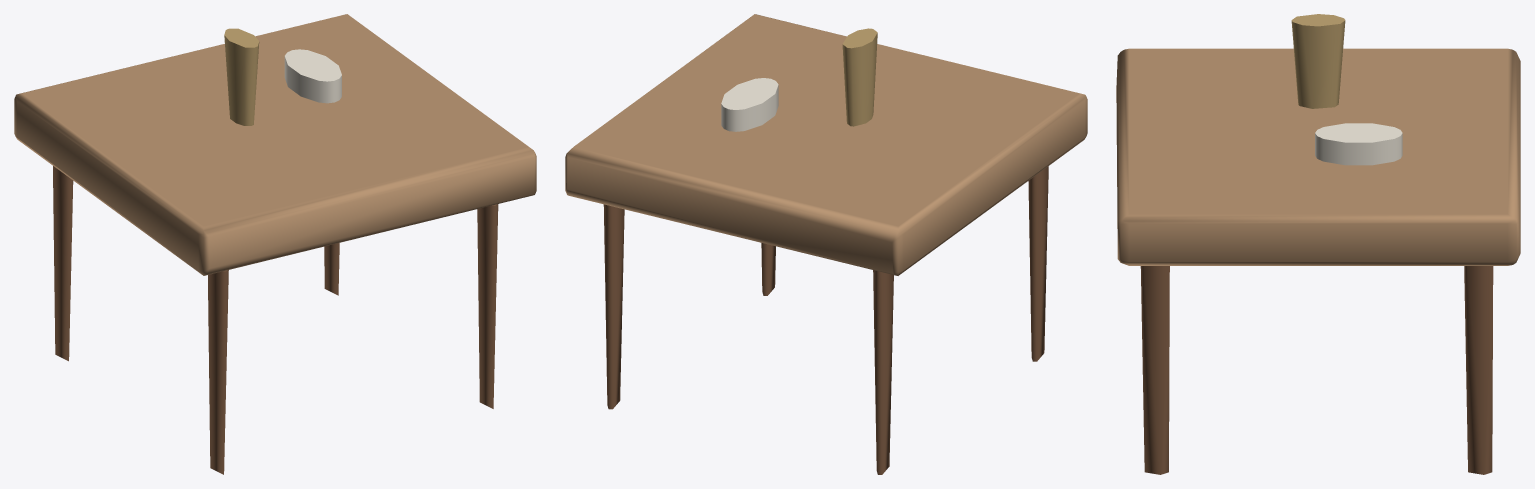
The model's file is table-4-4.lod.glb.
3 views of the same model, side by side, from view 1: azimuth 30°, elevation 25°; view 2: azimuth 150°, elevation 25°; view 3: azimuth 270°, elevation 25° (orthographic). The views are drawn at different scales.
Visible parts, largest first — view 1: upholstery, part (×3); view 2: upholstery, part (×3); view 3: upholstery, part (×3).
Part boxes in pixels (box(x1,y1,x2,y2)): upholstery: box(14, 14, 536, 275); part (×3): box(53, 28, 498, 474); upholstery: box(565, 14, 1087, 275); part (×3): box(603, 28, 1048, 474); upholstery: box(1116, 48, 1520, 265); part (×3): box(1140, 14, 1493, 474).
Bounding box in the file's own units: 1 × 1 × 1.
